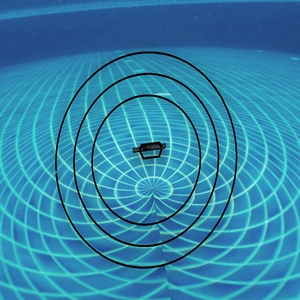circle: (44, 44, 257, 289)
submarine: (139, 138, 166, 161)
